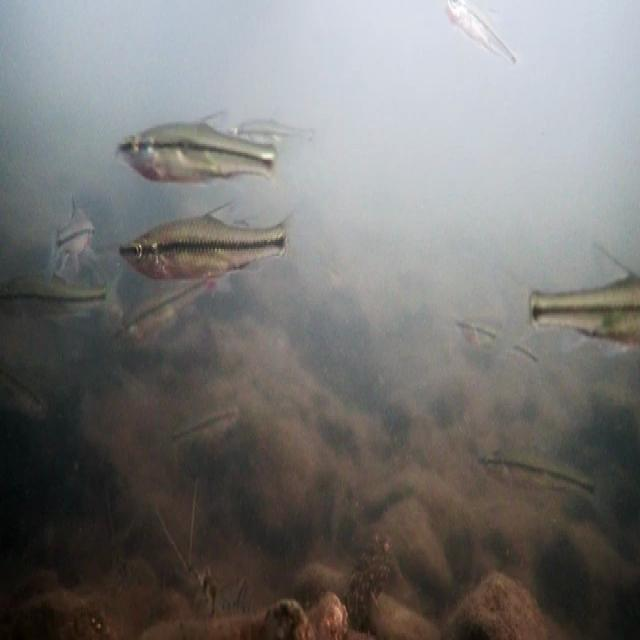Cakil Baligi: (117, 201, 305, 304), (116, 114, 288, 192)
